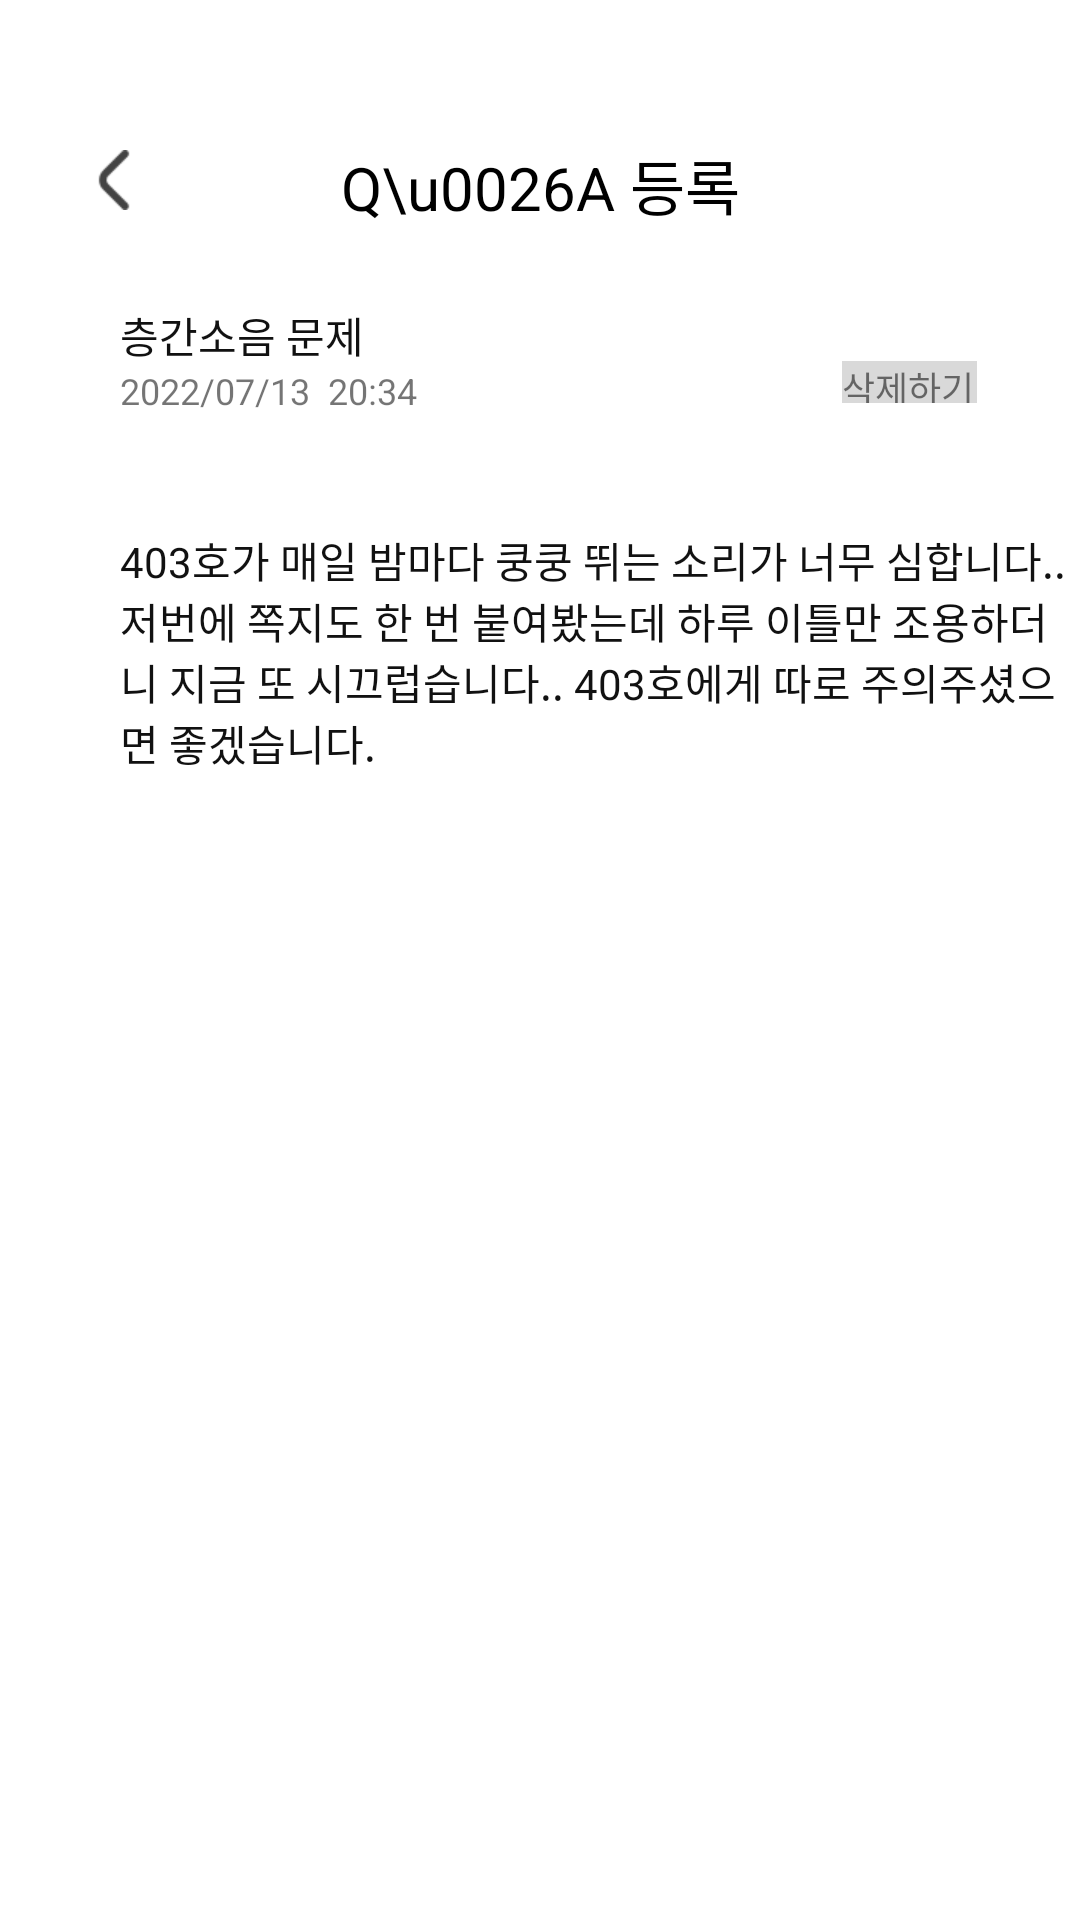

Screen size 1080×1920. Icon name, then its center in pixels as point (x, y):
back: point (114, 180)
